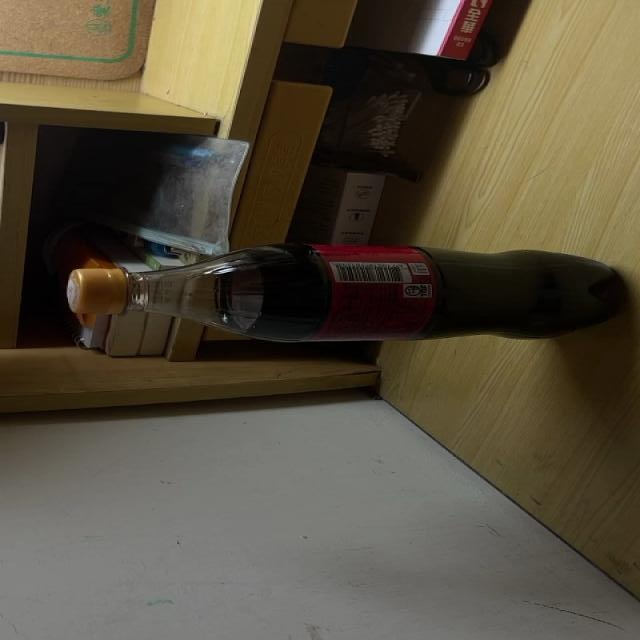Coca-Cola: (67, 246, 630, 344)
